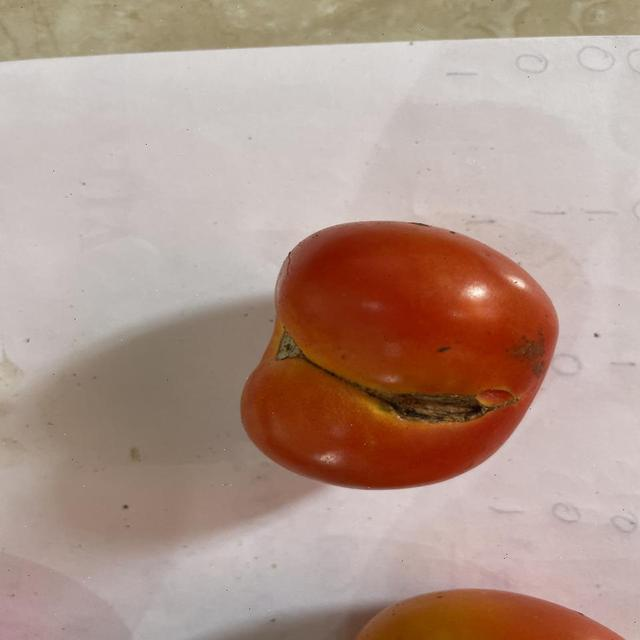Cracking Fruit: (123, 119, 376, 402)
